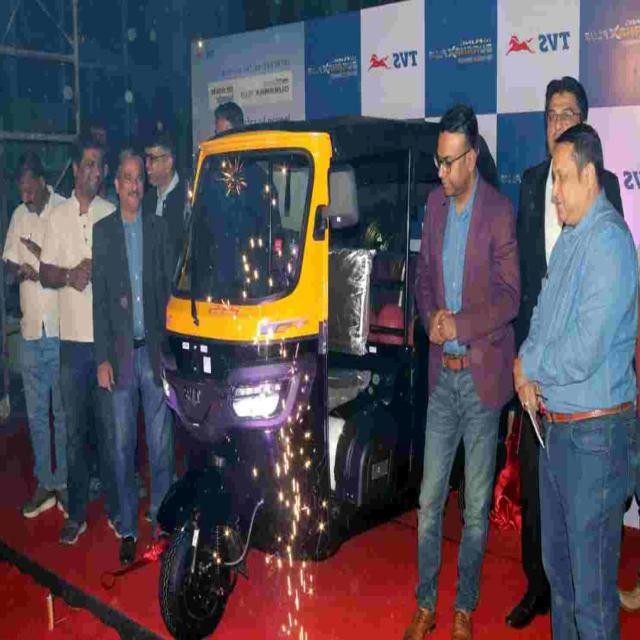autorickshaw: (152, 118, 439, 640)
